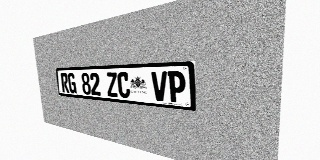2: (89, 73, 101, 96)
8: (81, 73, 91, 95)
C: (117, 72, 130, 98)
G: (67, 73, 77, 94)
P: (167, 71, 186, 103)
R: (60, 73, 69, 93)
V: (151, 71, 168, 102)
Z: (106, 72, 118, 97)
